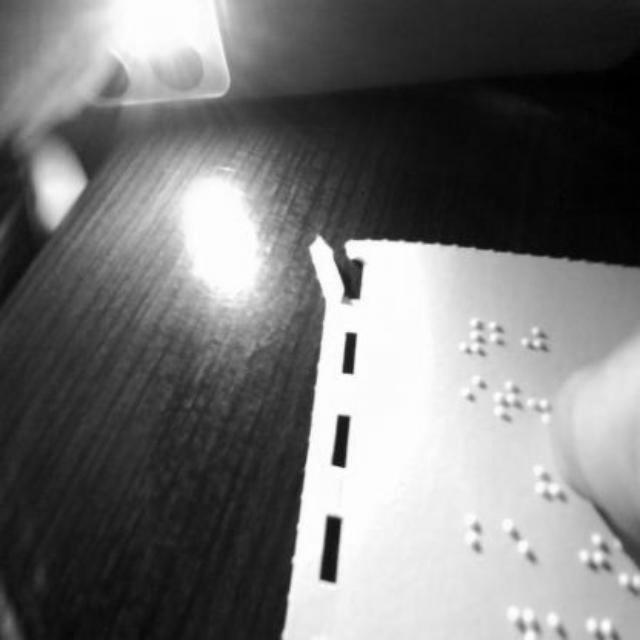braiile: (504, 516, 540, 586), (464, 509, 496, 575), (491, 374, 523, 438), (462, 373, 488, 431), (488, 316, 516, 368), (520, 321, 548, 371)
